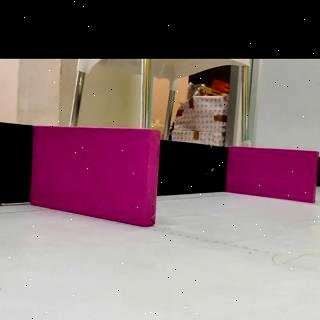xparking: (36, 130, 154, 217), (232, 152, 316, 196)
